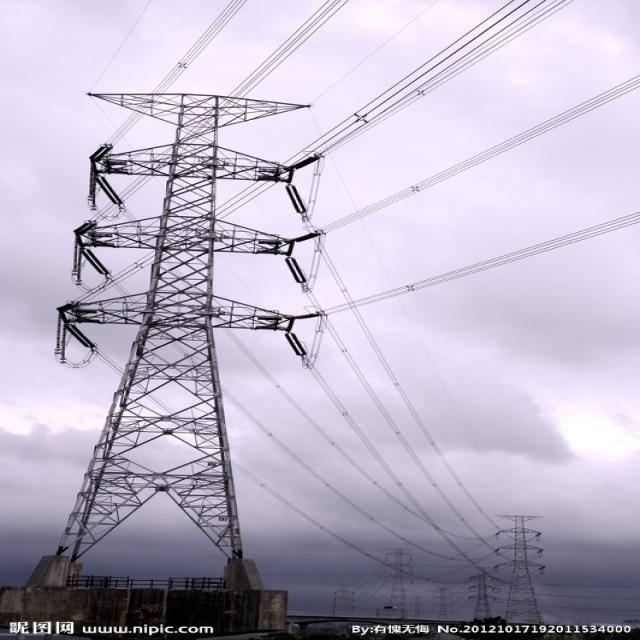non-critical vegetation: (4, 67, 353, 588)
